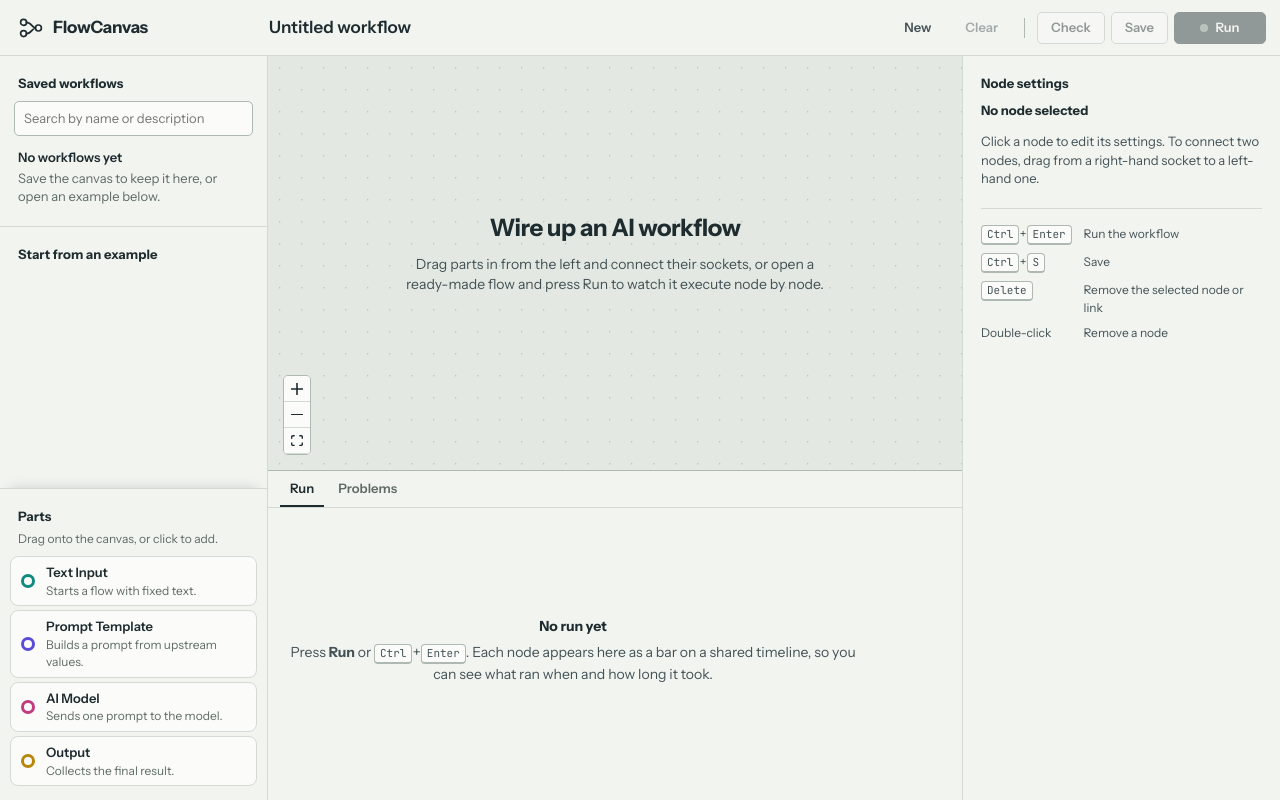
Test: App › adds a node to the canvas from the palette
The image size is (1280, 800).
Click the button with test id "add-node-TEXT_INPUT": (134, 581) [10, 556, 257, 606]
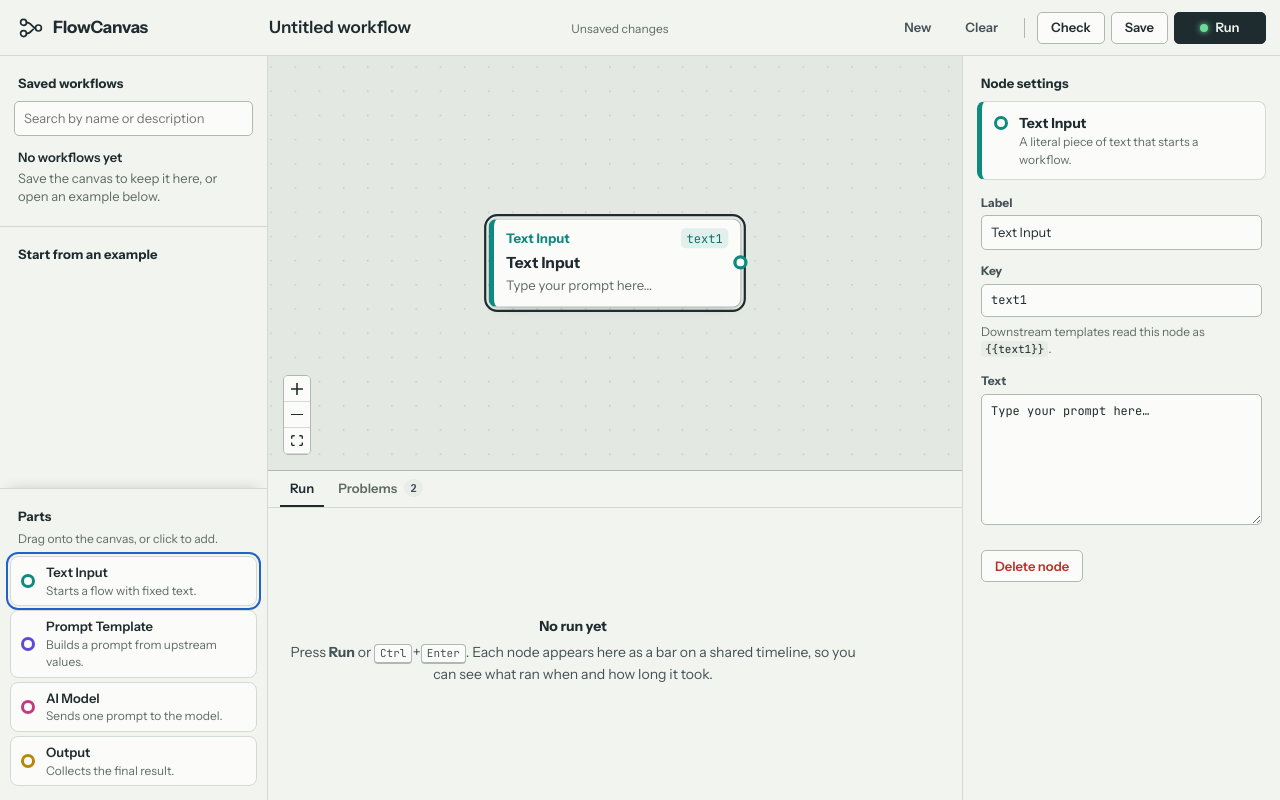
expect the element with test id "inspector" is shown: met, box [963, 56, 1279, 602]
expect the field with test id "inspector-label" holds "Text Input": met, box [981, 215, 1262, 250]
